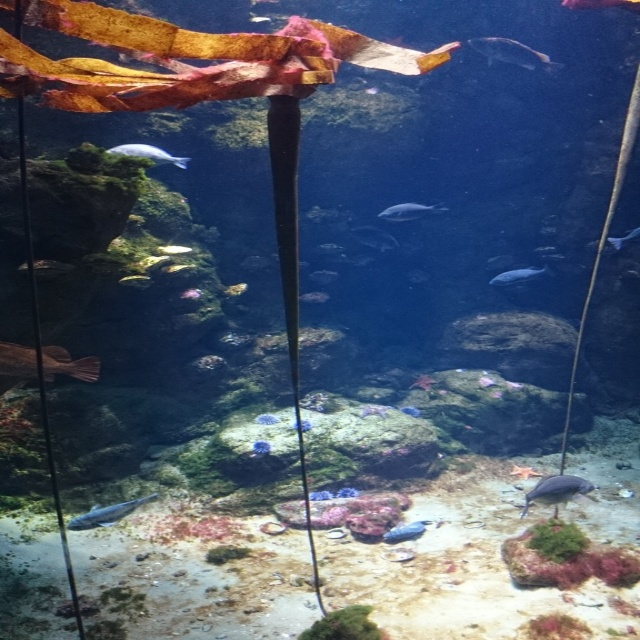Fish: (67, 496, 166, 533), (518, 472, 597, 516), (369, 190, 464, 223), (107, 140, 191, 170), (341, 223, 401, 248), (494, 267, 550, 289), (385, 521, 432, 543), (603, 227, 639, 251), (401, 373, 438, 391)
